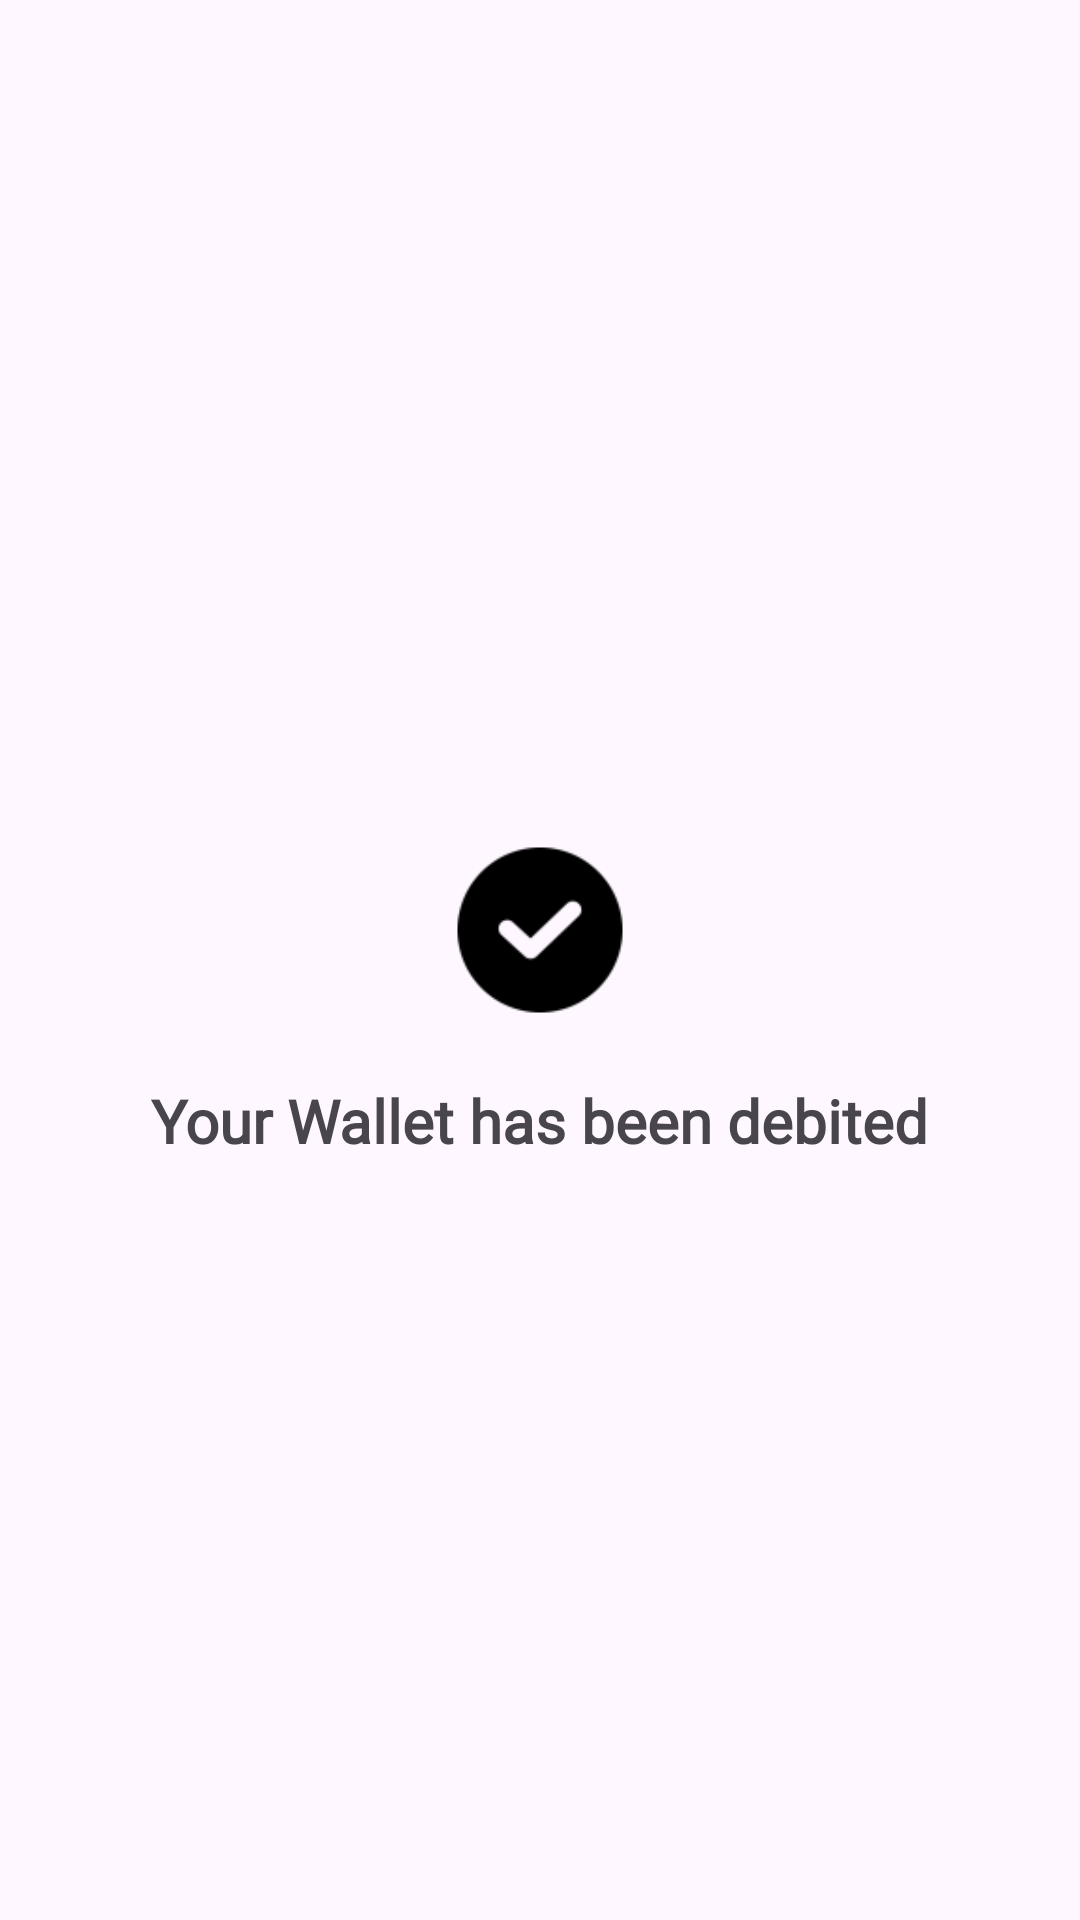

Named icons in this screenshot (1080x1920) and their centers, [x,y]:
success: [540,930]
